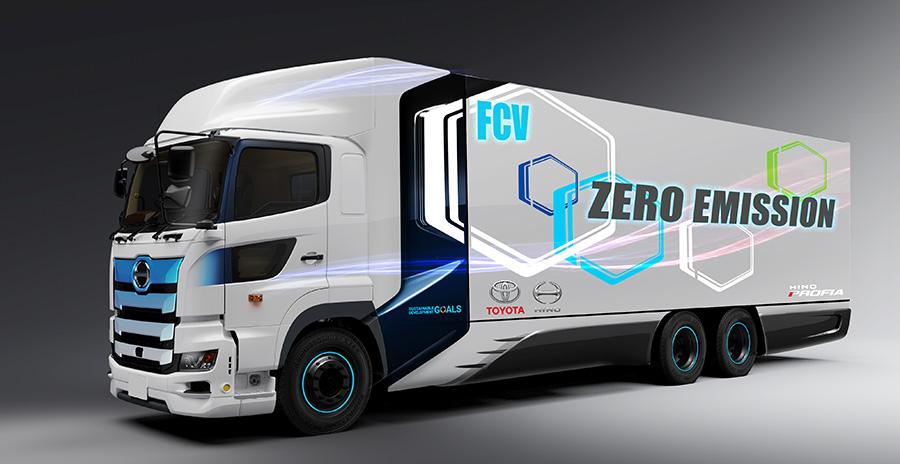truck: (108, 57, 851, 434)
